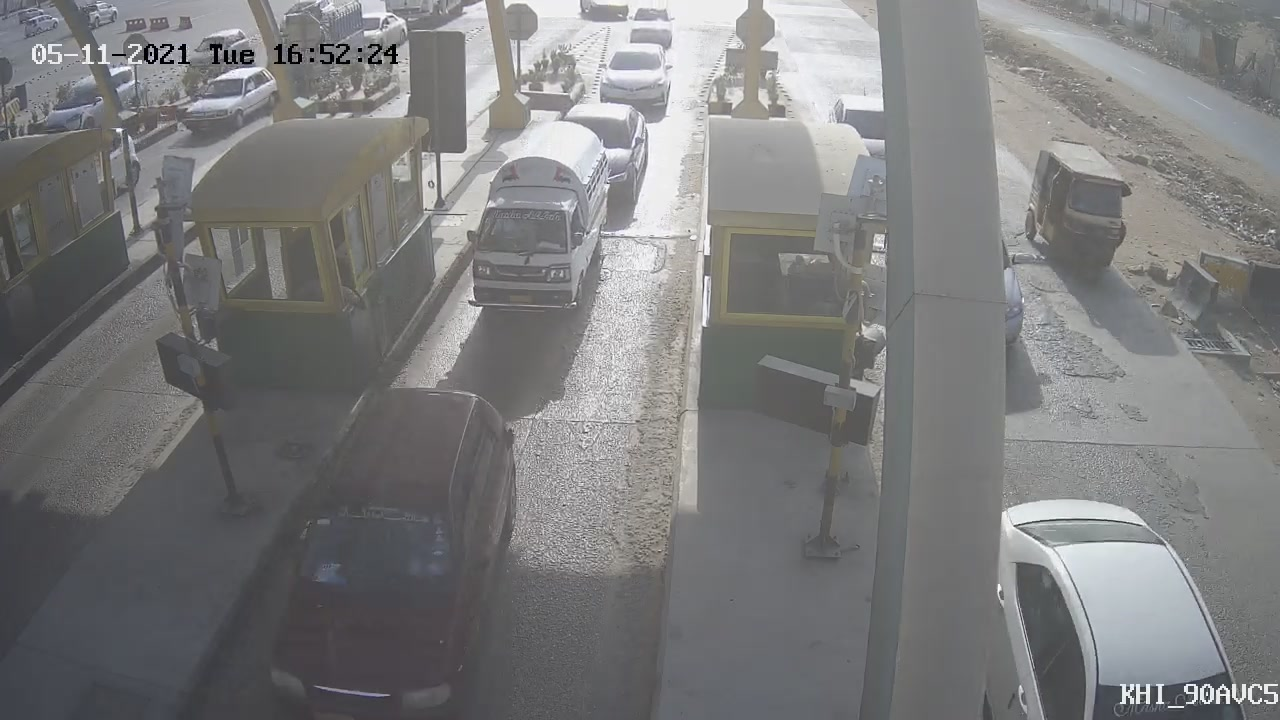F1: (447, 108, 622, 335)
